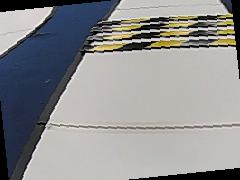bump: (78, 10, 236, 57)
